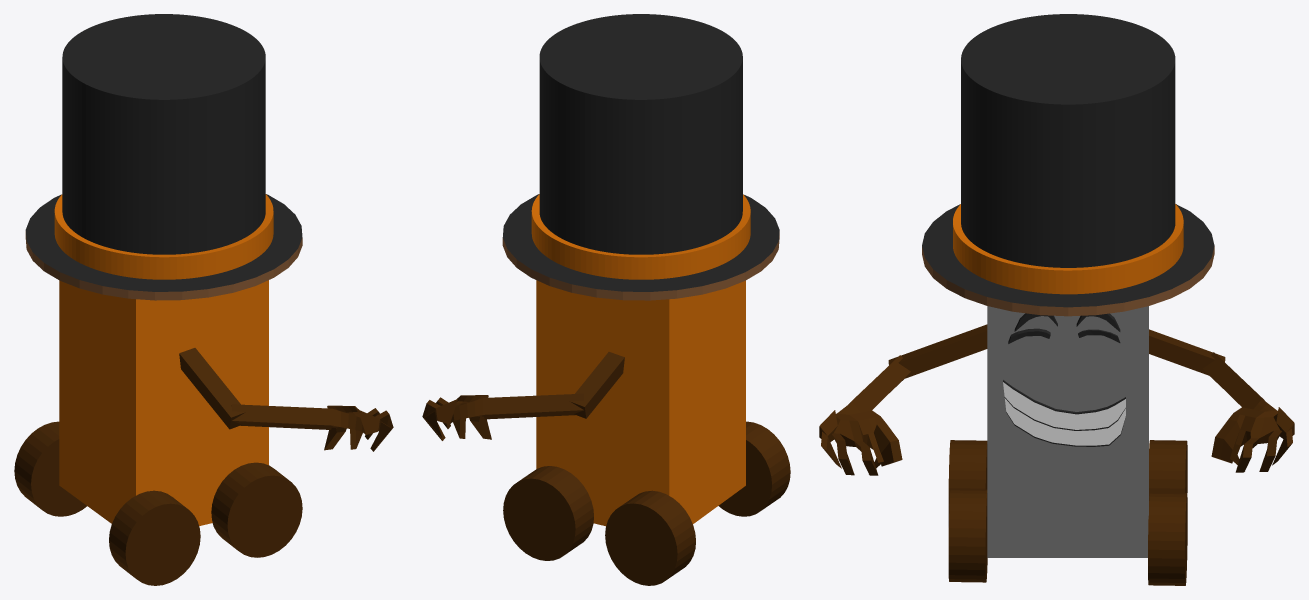
File: Mascotte.fbx
3 views of the same model, side by side, from view 1: azimuth 30°, elevation 25°; view 2: azimuth 150°, elevation 25°; view 3: azimuth 270°, elevation 25° (orthographic). The views are drawn at different scales.
Parts seen in each view (by area): view 1: Cylinder.005, Cube, Cylinder.004, Cylinder.002, Cylinder.003, Cube.002, Cylinder.001; view 2: Cylinder.005, Cube, Cylinder.004, Cylinder, Cylinder.001, Cube.001, Cylinder.002; view 3: Cylinder.005, Cube, Cylinder.004, Cube.002, Cube.001, Plane.005, Cylinder.003, Cylinder, Cylinder.001, Cylinder.002.
Part boxes in pixels (x1=…): Cylinder.005: x1=54, y1=14, x2=273, y2=279; Cube: x1=59, y1=280, x2=268, y2=525; Cylinder.004: x1=25, y1=194, x2=302, y2=300; Cylinder.002: x1=109, y1=490, x2=200, y2=585; Cylinder.003: x1=211, y1=462, x2=302, y2=557; Cube.002: x1=179, y1=348, x2=393, y2=451; Cylinder.001: x1=14, y1=421, x2=86, y2=516; Cylinder.005: x1=531, y1=14, x2=750, y2=279; Cube: x1=536, y1=280, x2=745, y2=526; Cylinder.004: x1=502, y1=194, x2=779, y2=300; Cylinder: x1=503, y1=466, x2=593, y2=560; Cylinder.001: x1=605, y1=490, x2=695, y2=585; Cube.001: x1=422, y1=352, x2=624, y2=440; Cylinder.002: x1=718, y1=421, x2=790, y2=516; Cylinder.005: x1=953, y1=14, x2=1183, y2=294; Cube: x1=987, y1=306, x2=1148, y2=557; Cylinder.004: x1=922, y1=204, x2=1214, y2=316; Cube.002: x1=819, y1=324, x2=987, y2=475; Cube.001: x1=1149, y1=329, x2=1294, y2=472; Plane.005: x1=1003, y1=380, x2=1125, y2=446; Cylinder.003: x1=948, y1=489, x2=987, y2=582; Cylinder: x1=1148, y1=492, x2=1187, y2=585; Cylinder.001: x1=1149, y1=440, x2=1187, y2=500; Cylinder.002: x1=948, y1=440, x2=987, y2=527.
Size of the model in its own units: 336 by 623 by 538.
